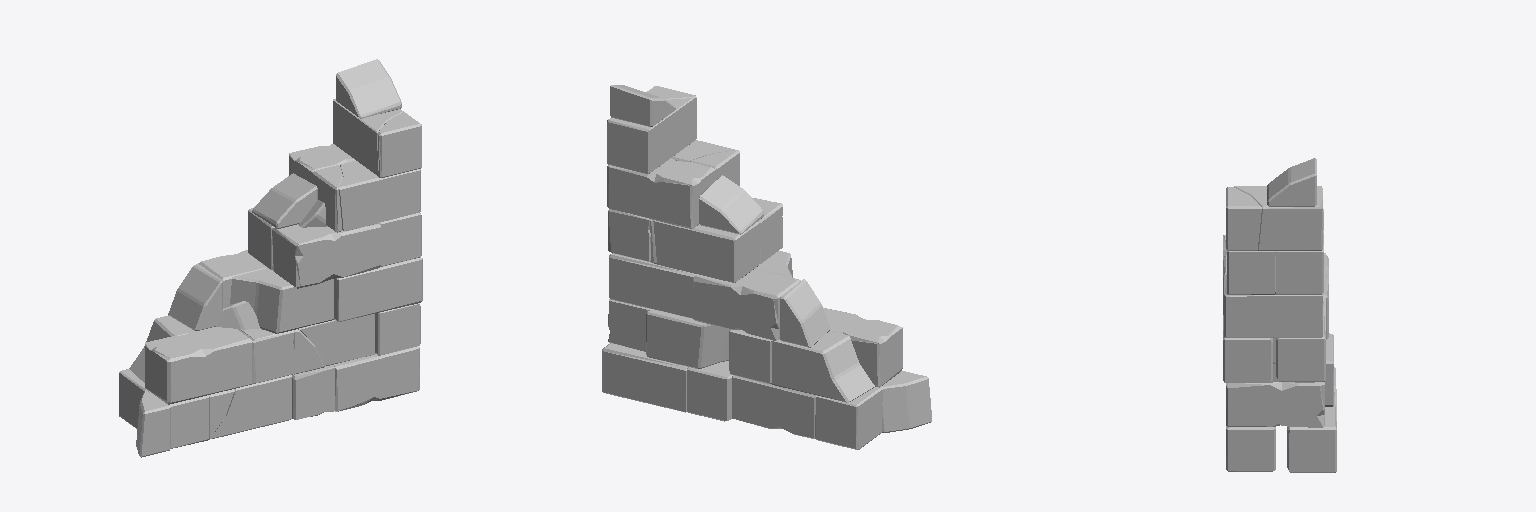
File: stone_0.obj
3 views of the same model, side by side, from view 1: azimuth 30°, elevation 25°; view 2: azimuth 150°, elevation 25°; view 3: azimuth 270°, elevation 25° (orthographic).
Visible parts, largest first — view 1: Box002_wire_[number redacted]_0; view 2: Box002_wire_[number redacted]_0; view 3: Box002_wire_[number redacted]_0.
Boxes of the visible parts, x1=… form: Box002_wire_[number redacted]_0: x1=119, y1=59, x2=422, y2=457; Box002_wire_[number redacted]_0: x1=602, y1=85, x2=931, y2=449; Box002_wire_[number redacted]_0: x1=1223, y1=158, x2=1336, y2=472.
Bounding box in the file's own units: 65.92 × 67.34 × 23.19.